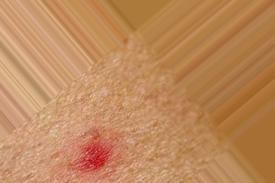Tick: (65, 122, 119, 182)
